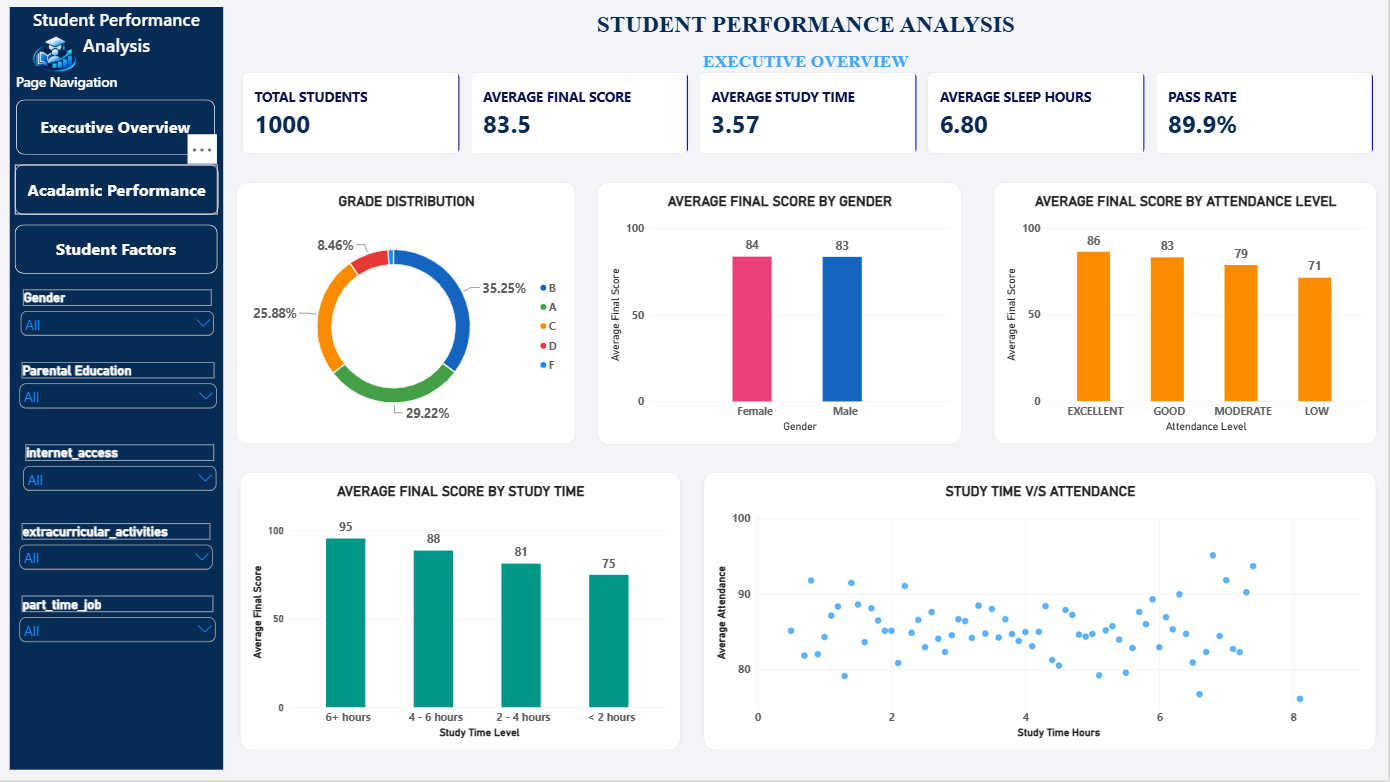

What the dashboard file says about the page in this screenshot:
{"tool":"powerbi","page":{"name":"Executive Overview","canvas":[1920,1080],"ordinal":0},"visuals":[{"type":"textbox","box":[313.6,0,1606.8,123.7],"z":0},{"type":"donutChart","title":"GRADE DISTRIBUTION","fields":{"Category":["student_performance_dataset.final_grade"],"Y":["Sum(student_performance_dataset.student_id)"]},"box":[330.9,254.5,469.1,361.8],"z":1000},{"type":"clusteredColumnChart","title":"AVERAGE FINAL SCORE BY GENDER","fields":{"Y":["Avg(student_performance_dataset.final_exam_score)"],"Category":["student_performance_dataset.gender"]},"box":[829.5,255.2,502.2,362.3],"z":2000},{"type":"clusteredColumnChart","title":"AVERAGE FINAL SCORE BY STUDY TIME","fields":{"Category":["student_performance_dataset.Study Time Level"],"Y":["student_performance_dataset.Average Final Score"]},"box":[336,656,608,384],"z":3000},{"type":"textbox","box":[0,255,329,385],"z":4000},{"type":"textbox","title":"Student Performance","box":[18.5,14.4,294.3,1051.8],"z":5000},{"type":"textbox","title":"Page Navigation","box":[27.1,103.4,313.6,37.3],"z":6000},{"type":"slicer","fields":{"Values":["student_performance_dataset.gender"]},"box":[28.8,403.4,276.3,78],"z":7000},{"type":"slicer","fields":{"Values":["student_performance_dataset.parental_education"]},"box":[27.1,503.1,282,74.1],"z":8000},{"type":"slicer","fields":{"Values":["student_performance_dataset.internet_access"]},"box":[32.6,617.1,275.8,82.3],"z":9000},{"type":"slicer","fields":{"Values":["student_performance_dataset.extracurricular_activities"]},"box":[27.1,725.7,276.4,87.3],"z":10000},{"type":"slicer","fields":{"Values":["student_performance_dataset.part_time_job"]},"box":[27.1,825.2,280,92.7],"z":11000},{"type":"clusteredColumnChart","title":"AVERAGE FINAL SCORE  BY ATTENDANCE LEVEL","fields":{"Category":["student_performance_dataset.Attendance Level"],"Y":["student_performance_dataset.Average Final Score"]},"box":[1376.4,254.5,529.1,361.8],"z":12000},{"type":"scatterChart","title":"STUDY TIME V/S ATTENDANCE","fields":{"X":["student_performance_dataset.study_time_hours"],"Y":["Avg(student_performance_dataset.attendance_percent)"]},"box":[976,656,928,384],"z":13000},{"type":"actionButton","box":[27.1,140.7,274.6,76.3],"z":14000},{"type":"actionButton","box":[25.4,230.5,281.4,69.5],"z":15000},{"type":"actionButton","box":[25.4,313.6,279.7,67.8],"z":16000},{"type":"cardVisual","fields":{"Data":["student_performance_dataset.Total Students","student_performance_dataset.Average Final Score","student_performance_dataset.Average Study Time","student_performance_dataset.average sleep hours","student_performance_dataset.Pass Rate"]},"box":[340.2,103.2,1560.2,113.2],"z":17000},{"type":"image","box":[32,48,96,64],"z":18000}]}

Visuals, with their boxes on the page's 1920x1080 design canvas (x1, y1, x2, y2). These are canvas units, not pixel positions in the 1390x782 screenshot, which may show the page scaled, cropped or inside an application window:
textbox: (x1=314, y1=0, x2=1920, y2=124)
"GRADE DISTRIBUTION" donutChart: (x1=331, y1=254, x2=800, y2=616)
"AVERAGE FINAL SCORE BY GENDER" clusteredColumnChart: (x1=830, y1=255, x2=1332, y2=618)
"AVERAGE FINAL SCORE BY STUDY TIME" clusteredColumnChart: (x1=336, y1=656, x2=944, y2=1040)
textbox: (x1=0, y1=255, x2=329, y2=640)
"Student Performance" textbox: (x1=18, y1=14, x2=313, y2=1066)
"Page Navigation" textbox: (x1=27, y1=103, x2=341, y2=141)
slicer - student_performance_dataset.gender: (x1=29, y1=403, x2=305, y2=481)
slicer - student_performance_dataset.parental_education: (x1=27, y1=503, x2=309, y2=577)
slicer - student_performance_dataset.internet_access: (x1=33, y1=617, x2=308, y2=699)
slicer - student_performance_dataset.extracurricular_activities: (x1=27, y1=726, x2=304, y2=813)
slicer - student_performance_dataset.part_time_job: (x1=27, y1=825, x2=307, y2=918)
"AVERAGE FINAL SCORE  BY ATTENDANCE LEVEL" clusteredColumnChart: (x1=1376, y1=254, x2=1906, y2=616)
"STUDY TIME V/S ATTENDANCE" scatterChart: (x1=976, y1=656, x2=1904, y2=1040)
actionButton: (x1=27, y1=141, x2=302, y2=217)
actionButton: (x1=25, y1=230, x2=307, y2=300)
actionButton: (x1=25, y1=314, x2=305, y2=381)
cardVisual - student_performance_dataset.Total Students x student_performance_dataset.Average Final Score: (x1=340, y1=103, x2=1900, y2=216)
image: (x1=32, y1=48, x2=128, y2=112)
